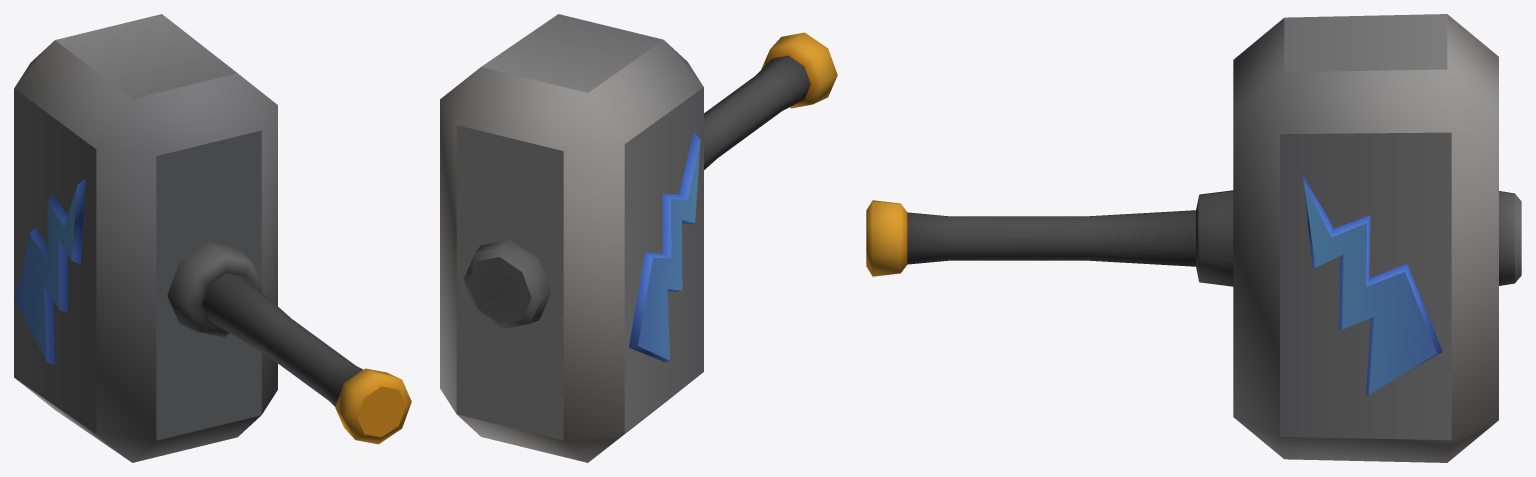
File: Melee_Hammer.fbx
The picture shows the model from 3 angles, left to right: view 1: azimuth 30°, elevation 25°; view 2: azimuth 150°, elevation 25°; view 3: azimuth 270°, elevation 25°; orthographic projection. The views are drawn at different scales.
Visible parts, largest first — view 1: Melee_Hammer; view 2: Melee_Hammer; view 3: Melee_Hammer.
Boxes of the visible parts, <box> form: Melee_Hammer: <box>14,14,411,462</box>; Melee_Hammer: <box>440,14,837,462</box>; Melee_Hammer: <box>866,14,1521,462</box>.
Bounding box in the file's own units: 0.3109 × 0.5568 × 0.8403.
